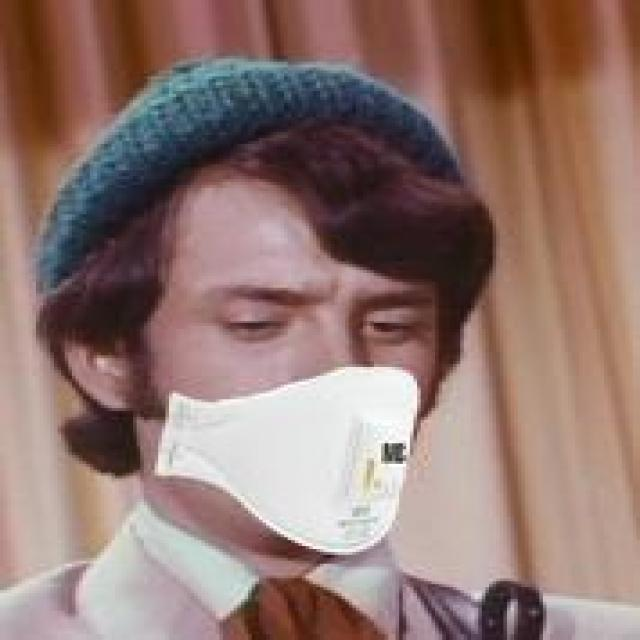mask: (65, 100, 478, 584)
